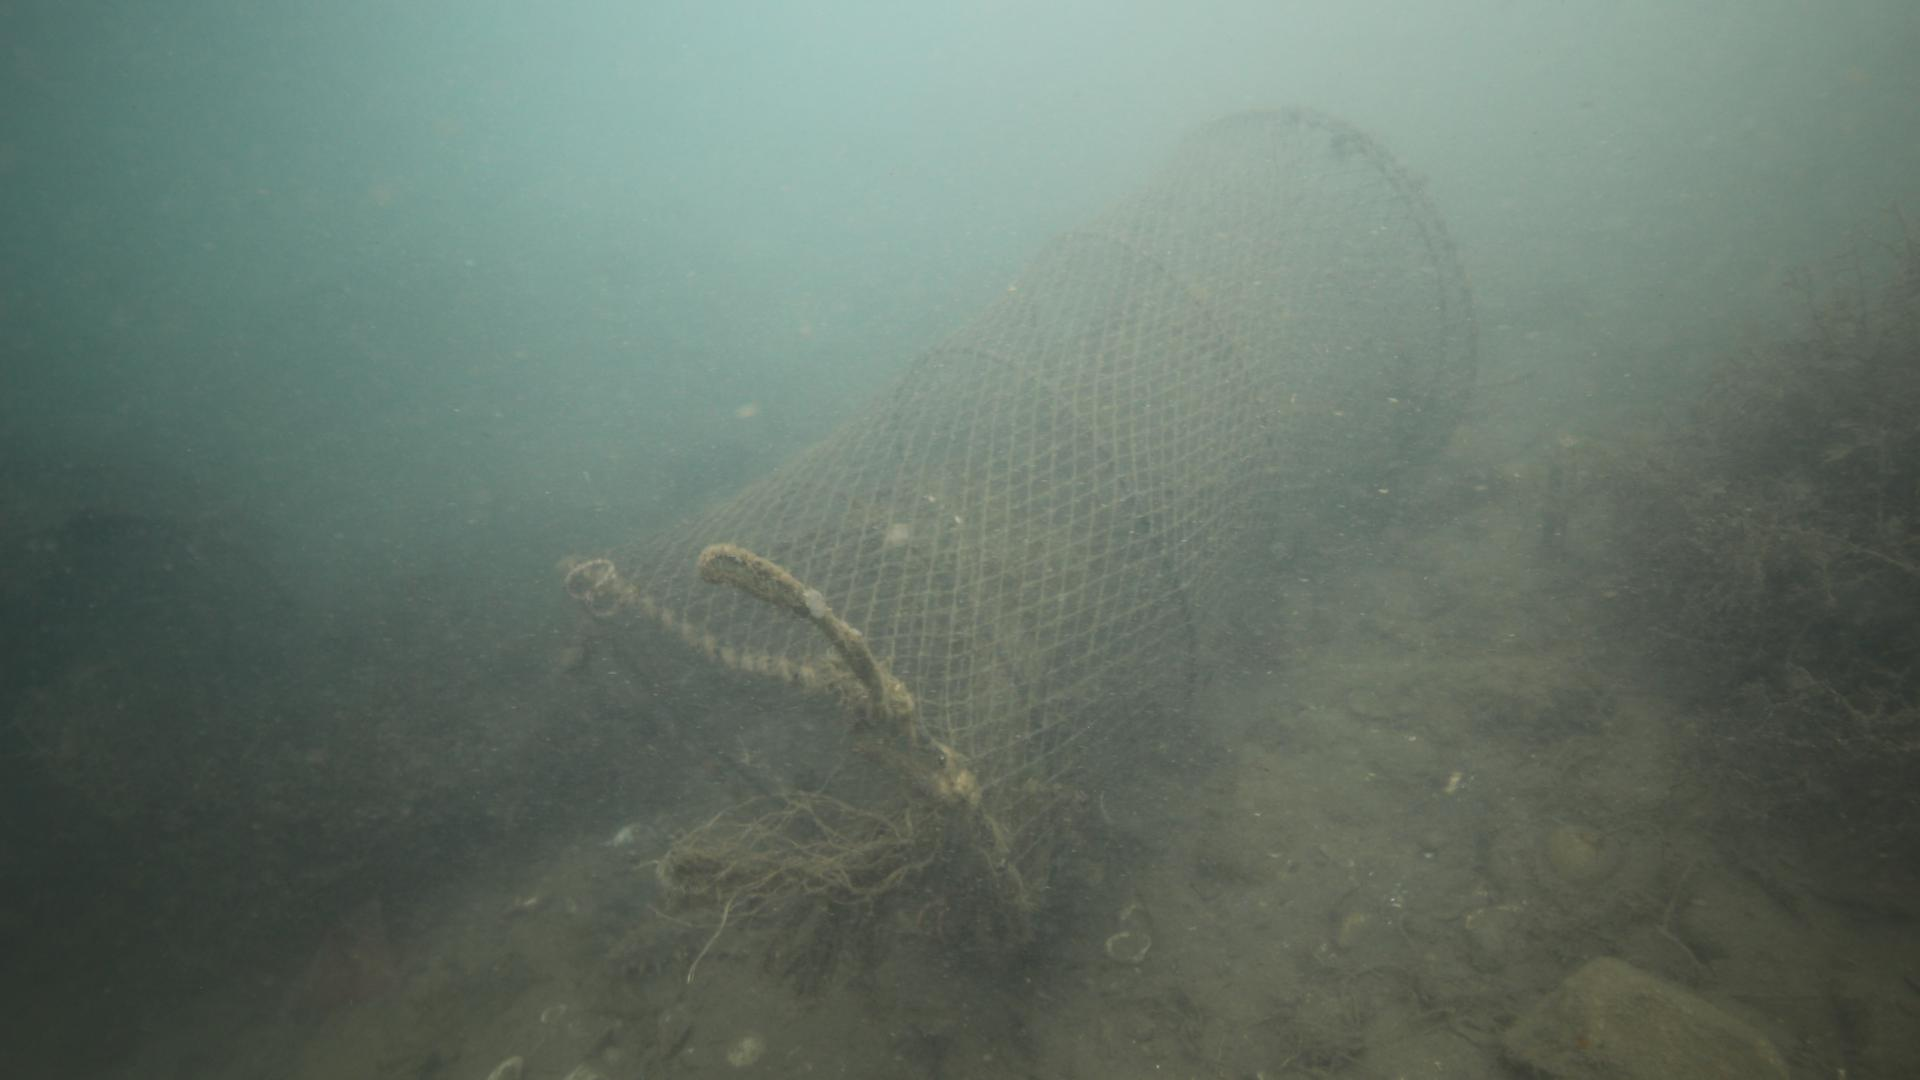bundle of ropes: (694, 542, 887, 709)
spring fish trap: (556, 105, 1482, 957)
